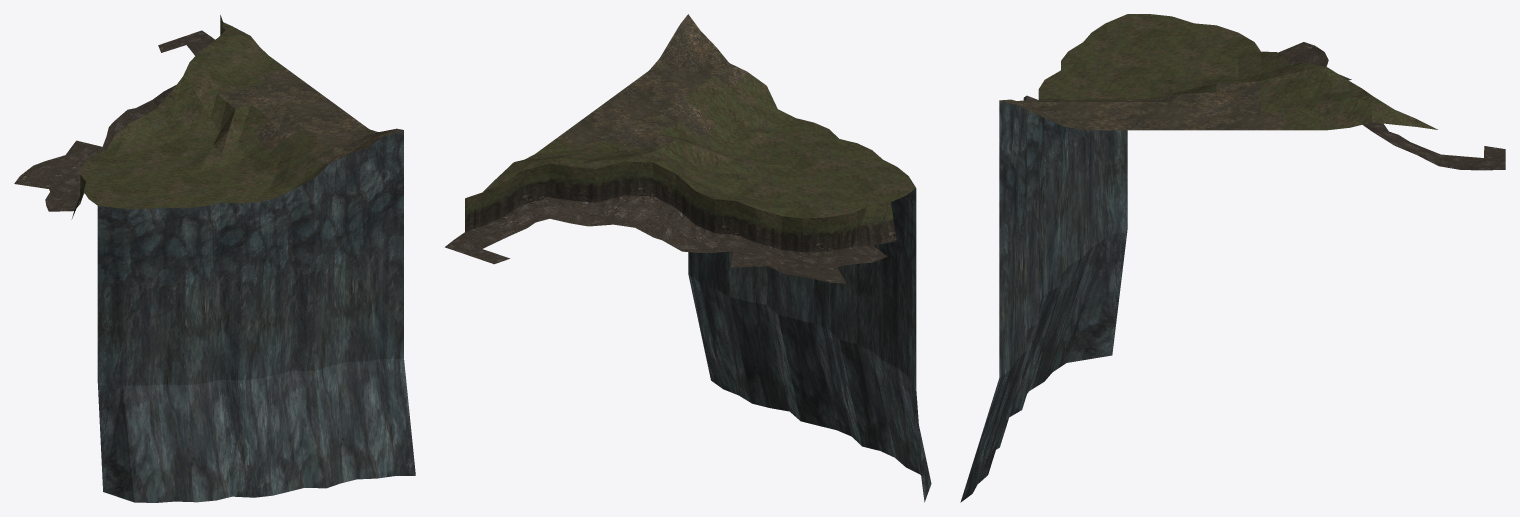
Rendered from terrain_base06.fbx.
3 views of the same model, side by side, from view 1: azimuth 30°, elevation 25°; view 2: azimuth 150°, elevation 25°; view 3: azimuth 270°, elevation 25° (orthographic). The views are drawn at different scales.
Visible parts, largest first — view 1: obj3.006; view 2: obj3.006; view 3: obj3.006.
Boxes of the visible parts, left/top/right/bottom form: obj3.006: left=14, top=15, right=415, bottom=502; obj3.006: left=445, top=14, right=931, bottom=502; obj3.006: left=960, top=14, right=1505, bottom=502.
Size of the model in its own units: 42.92 by 50.37 by 61.3.
